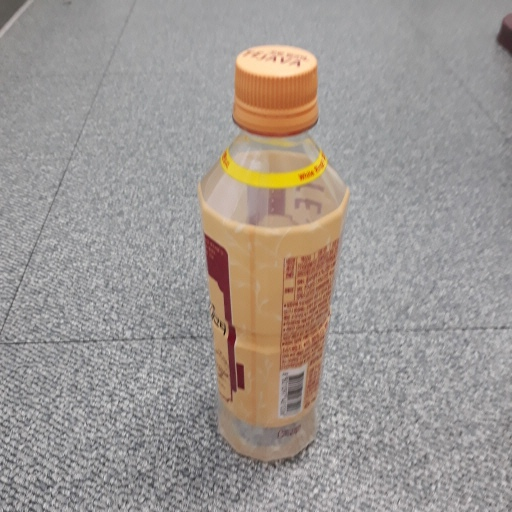Plastic_0: (195, 46, 353, 469)
